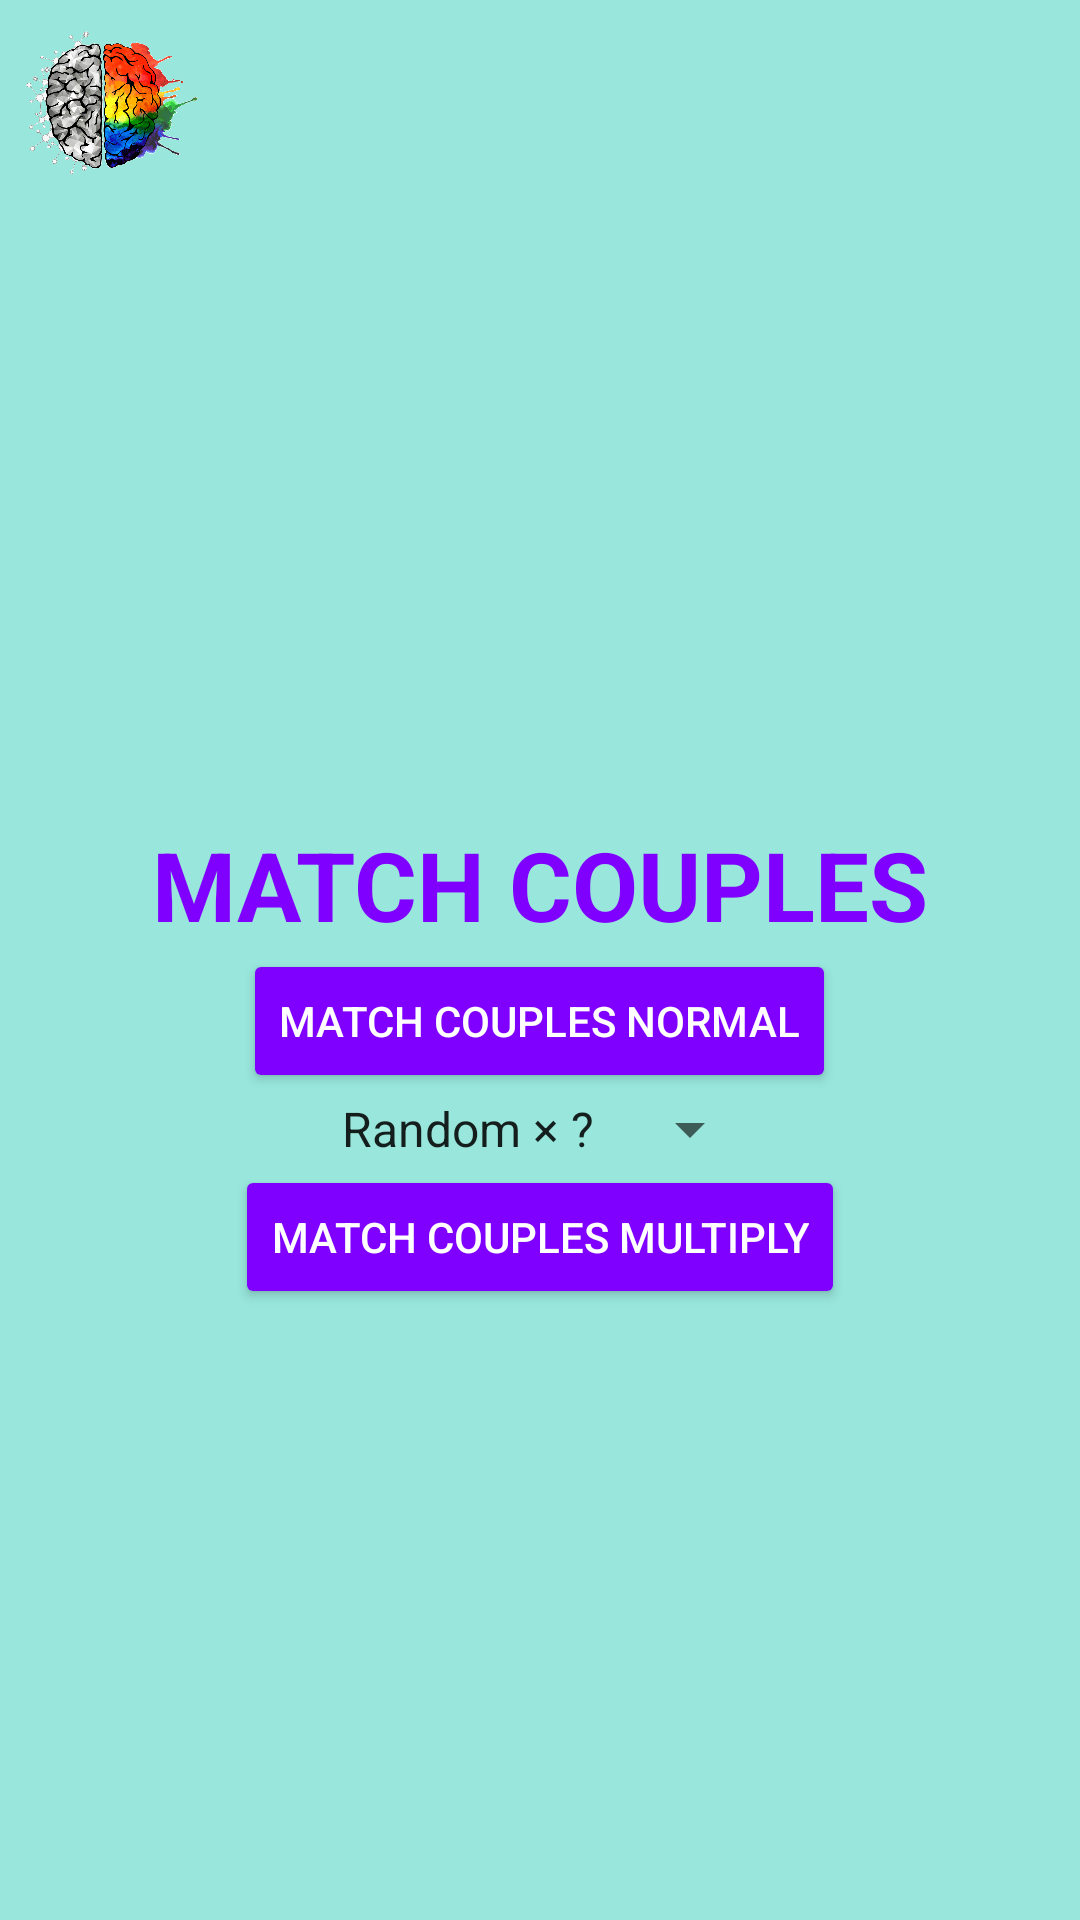

Screen size 1080*1920. Icon name, then its box in pixels as (x1, y1, x2, y2):
brain: (26, 31, 198, 174)
